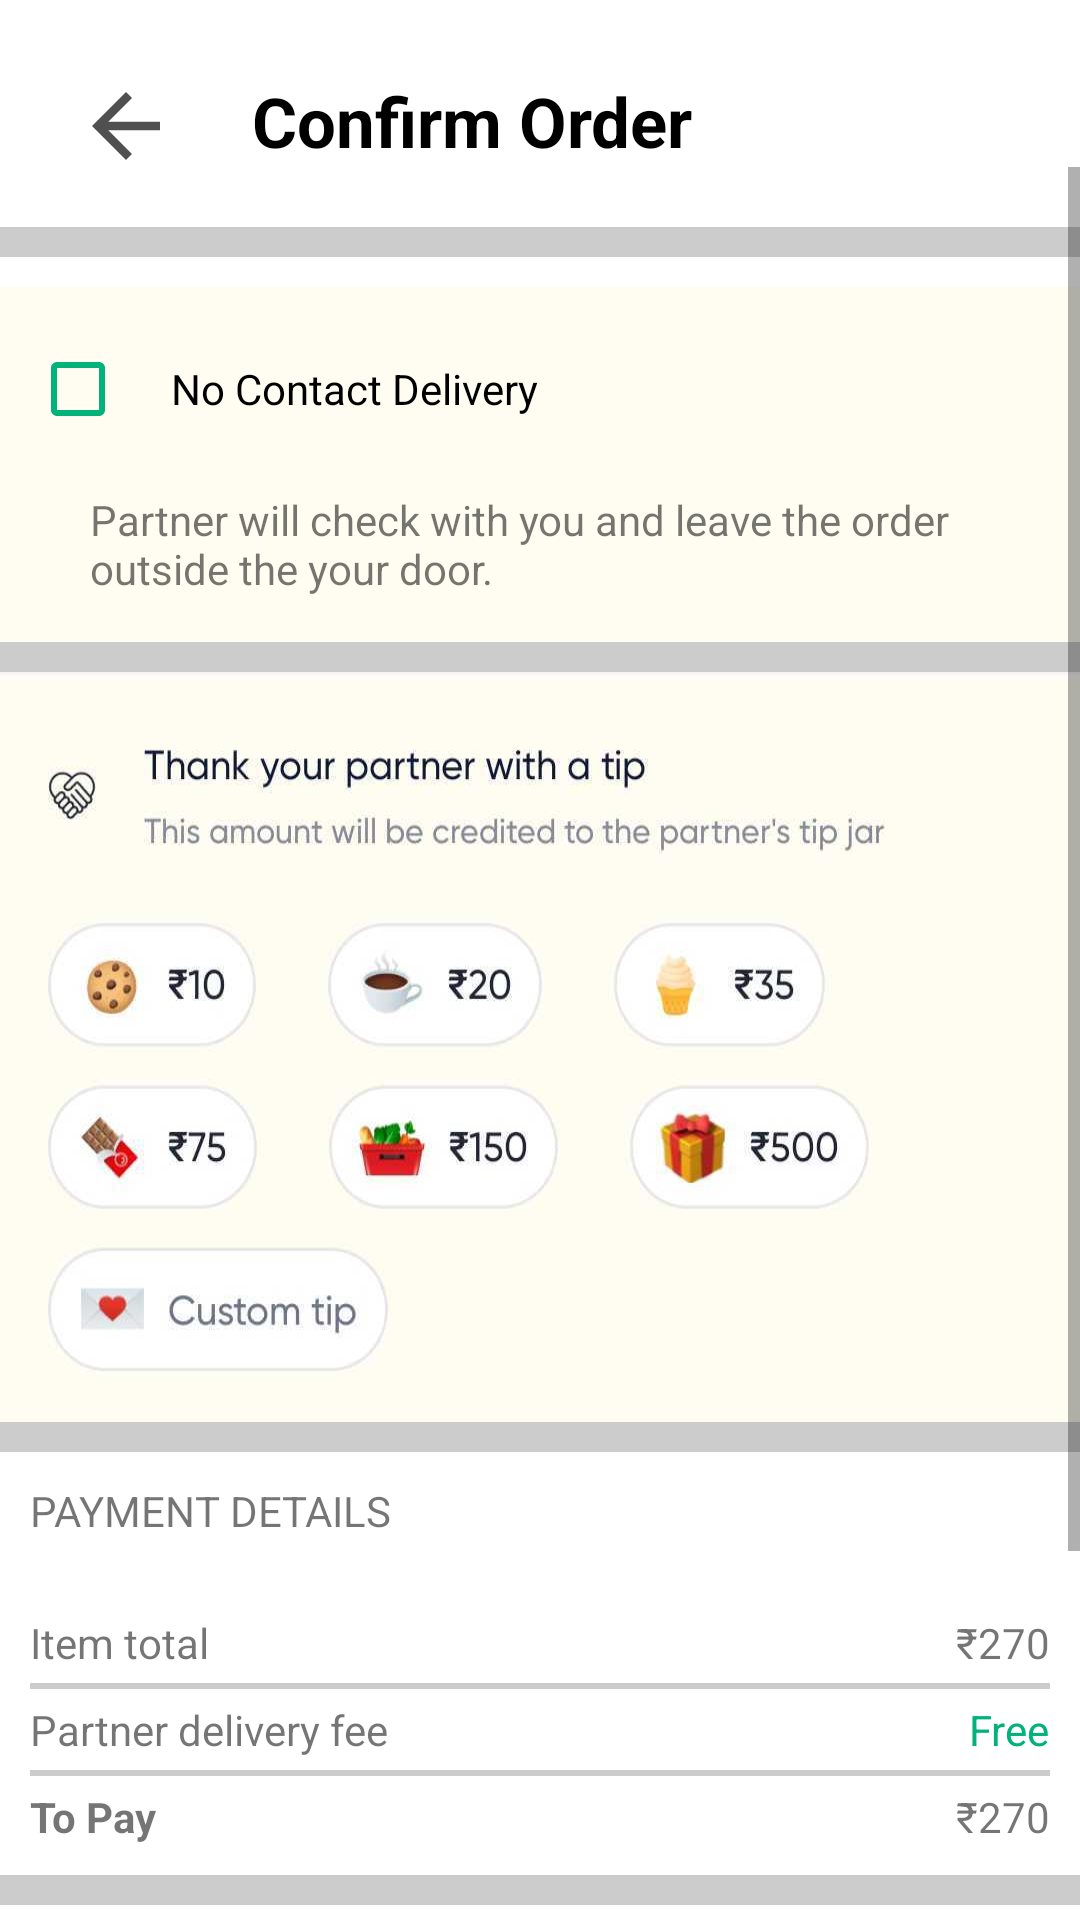

Named icons in this screenshot (1080x1920) and their bounding boxes, bbox=(x1, y1, x2, y2):
back arrow: bbox=(92, 92, 160, 160)
